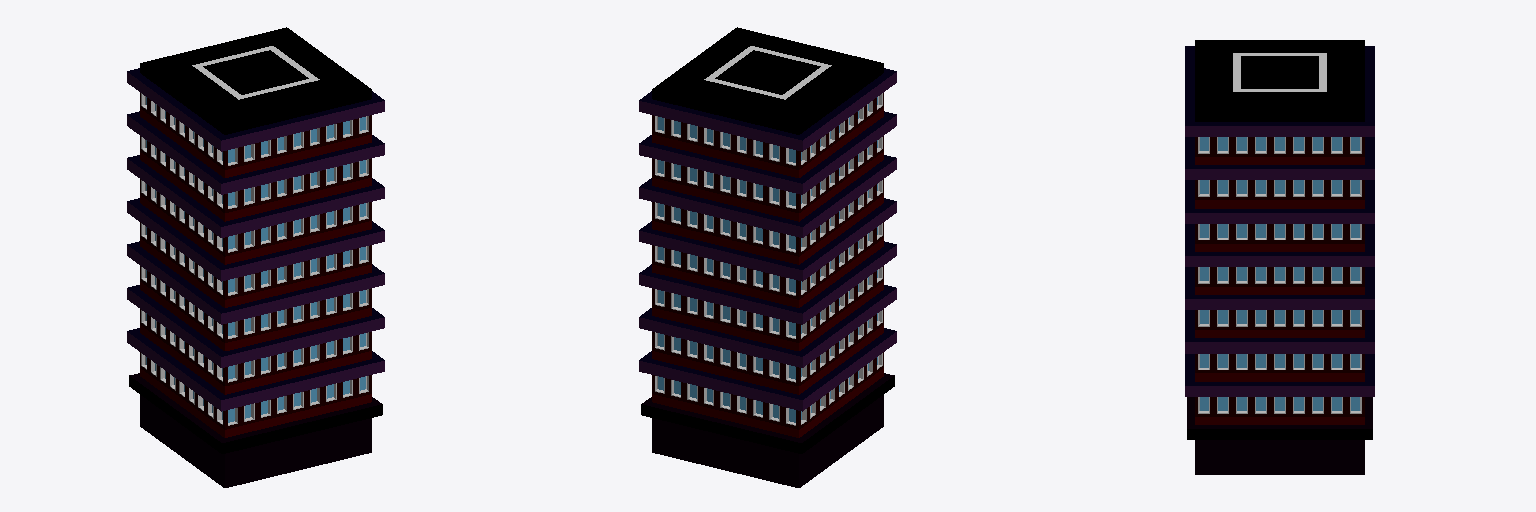
Rendered from Edificio.obj.
The picture shows the model from 3 angles: view 1: azimuth 30°, elevation 25°; view 2: azimuth 150°, elevation 25°; view 3: azimuth 270°, elevation 25°; orthographic projection.
Visible parts, largest first — view 1: Plane.001, Plane.002, Plane; view 2: Plane.001, Plane.002, Plane; view 3: Plane.001, Plane.002, Plane.
Part boxes in pixels (x1,y1,x2,y2): Plane.001: (127, 68, 384, 437); Plane.002: (140, 27, 371, 134); Plane: (129, 373, 382, 487); Plane.001: (639, 68, 896, 437); Plane.002: (652, 27, 883, 134); Plane: (641, 373, 894, 487); Plane.001: (1185, 46, 1374, 424); Plane.002: (1195, 40, 1364, 121); Plane: (1187, 397, 1372, 474).
Bounding box in the file's own units: 2.22 × 4.75 × 2.22.